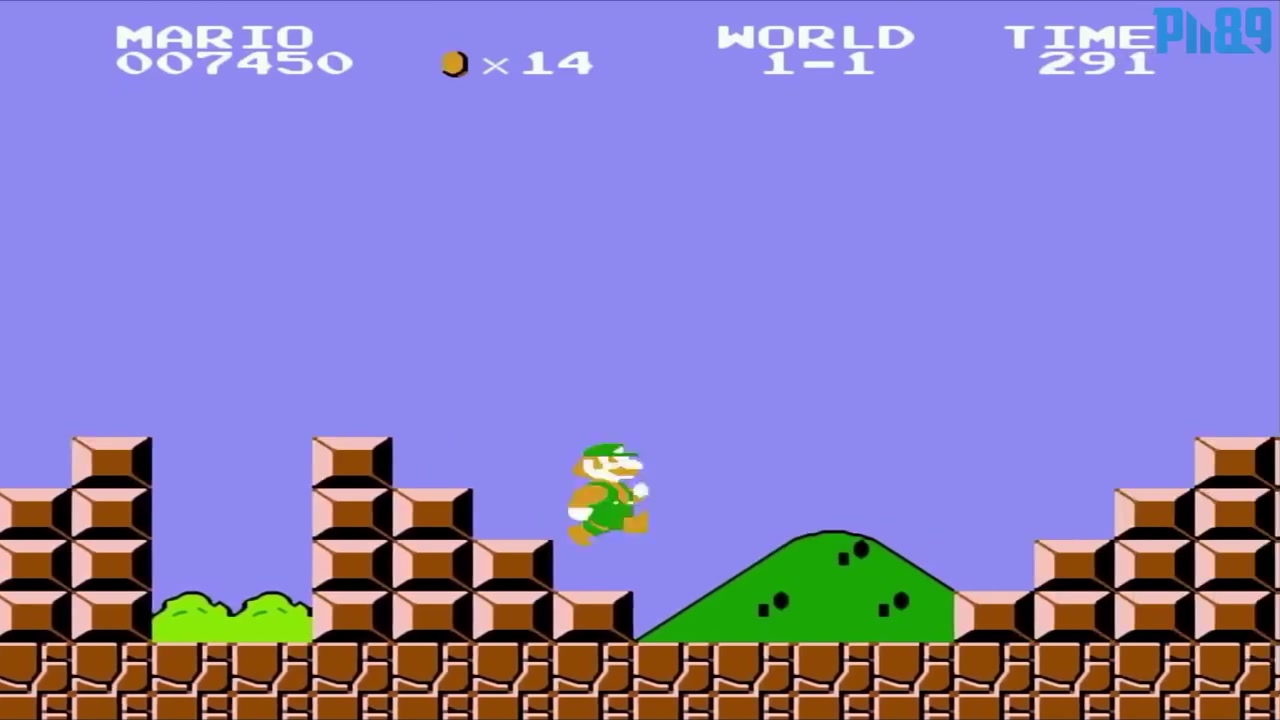mario: (563, 434, 654, 553)
